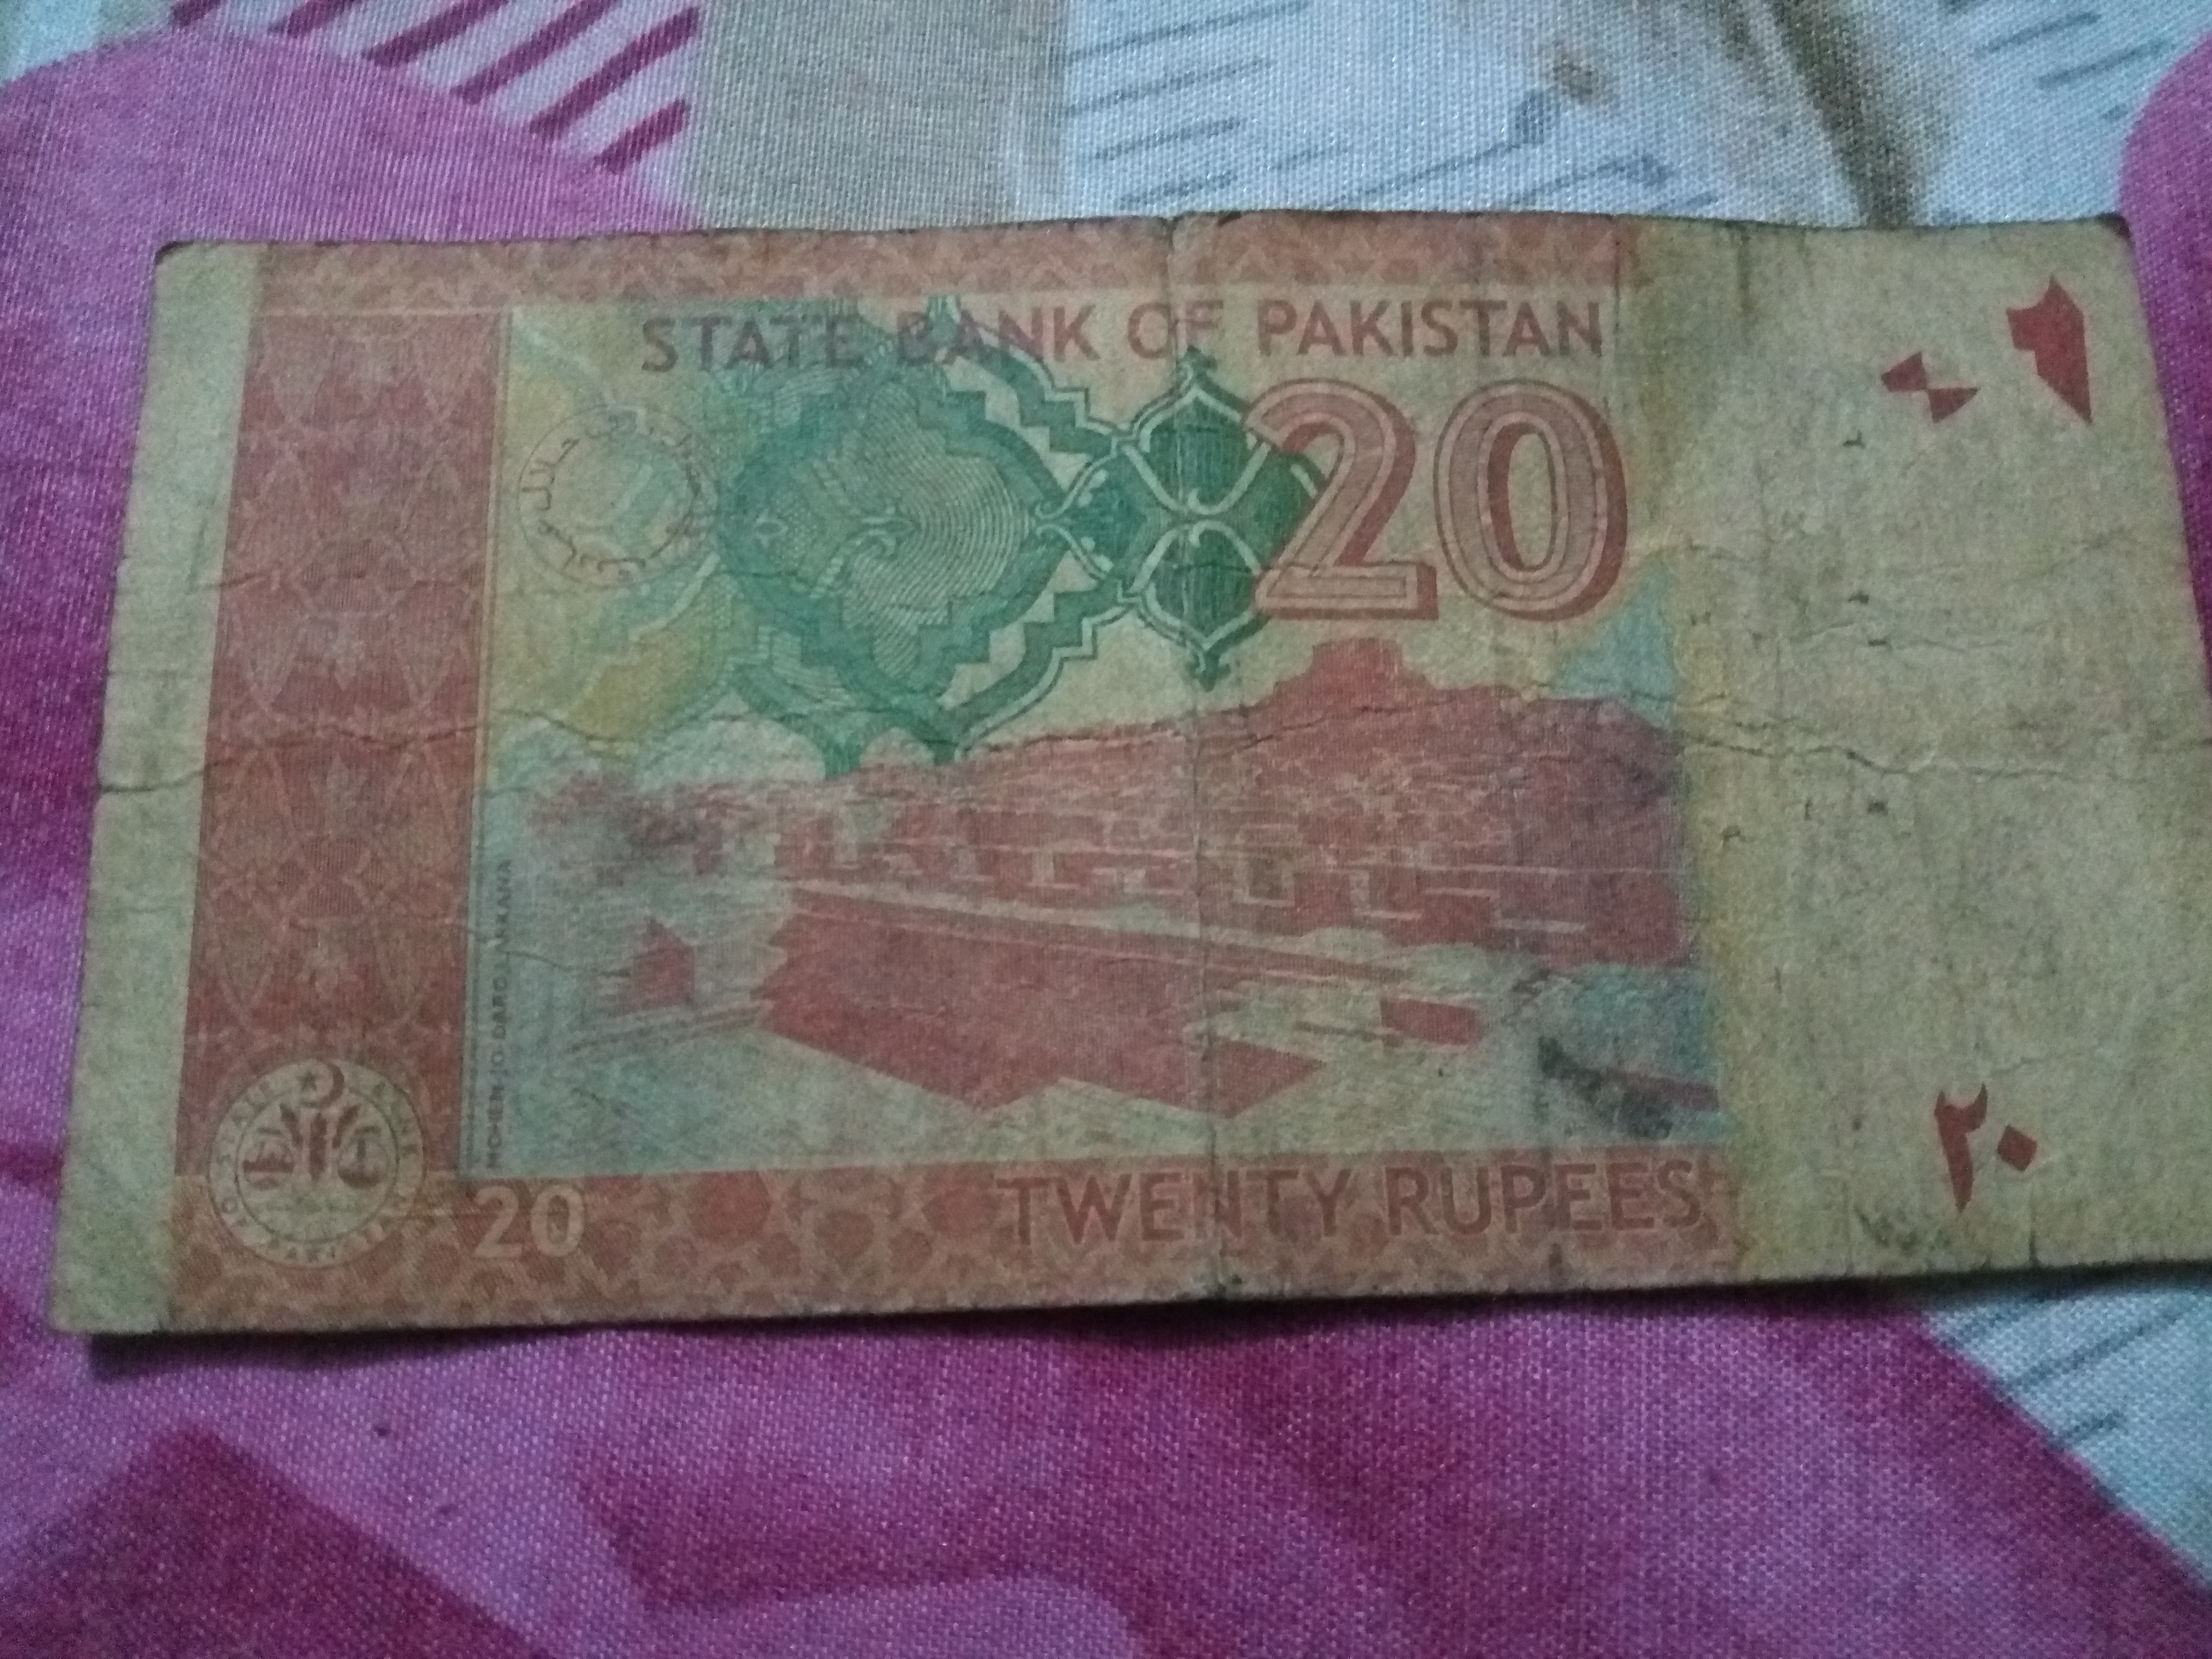20 rupee: (54, 190, 2200, 1460)
